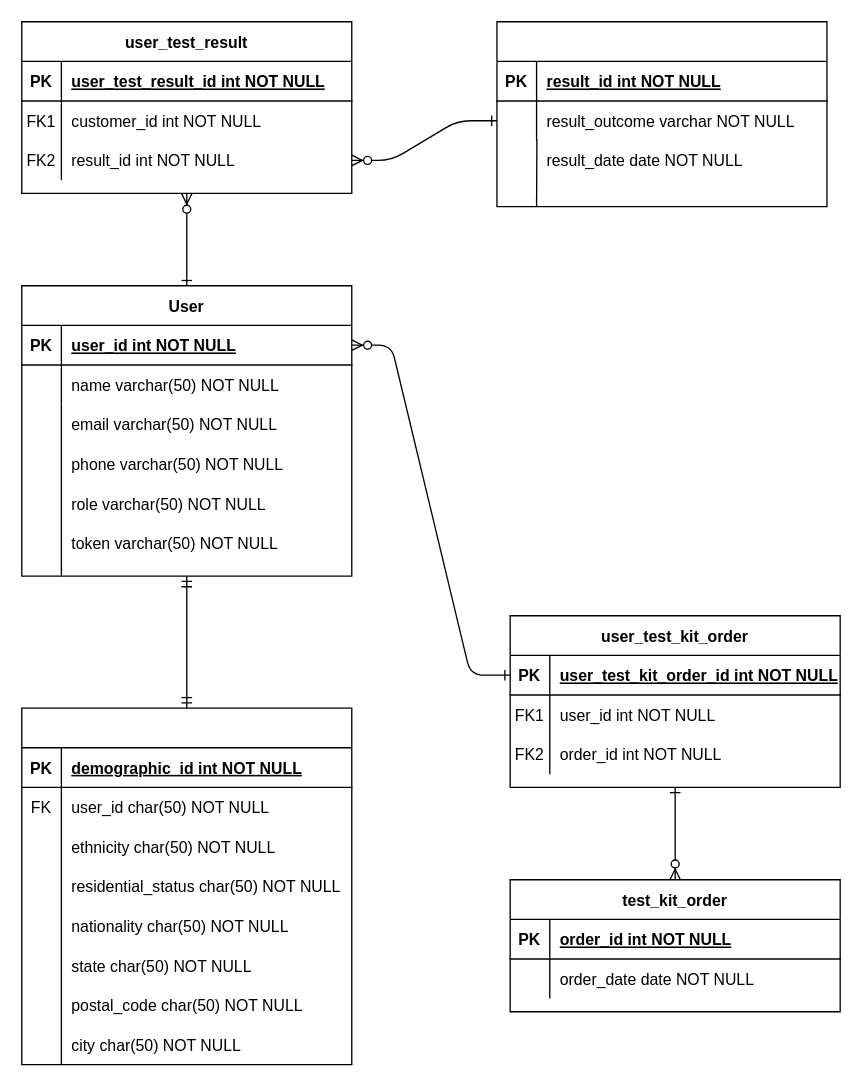
This 862x1086 diagram has some shape labels left out. Each missing label, with the box of its shape:
Demographics: (20, 707, 352, 1065)
test_result: (496, 20, 827, 207)
